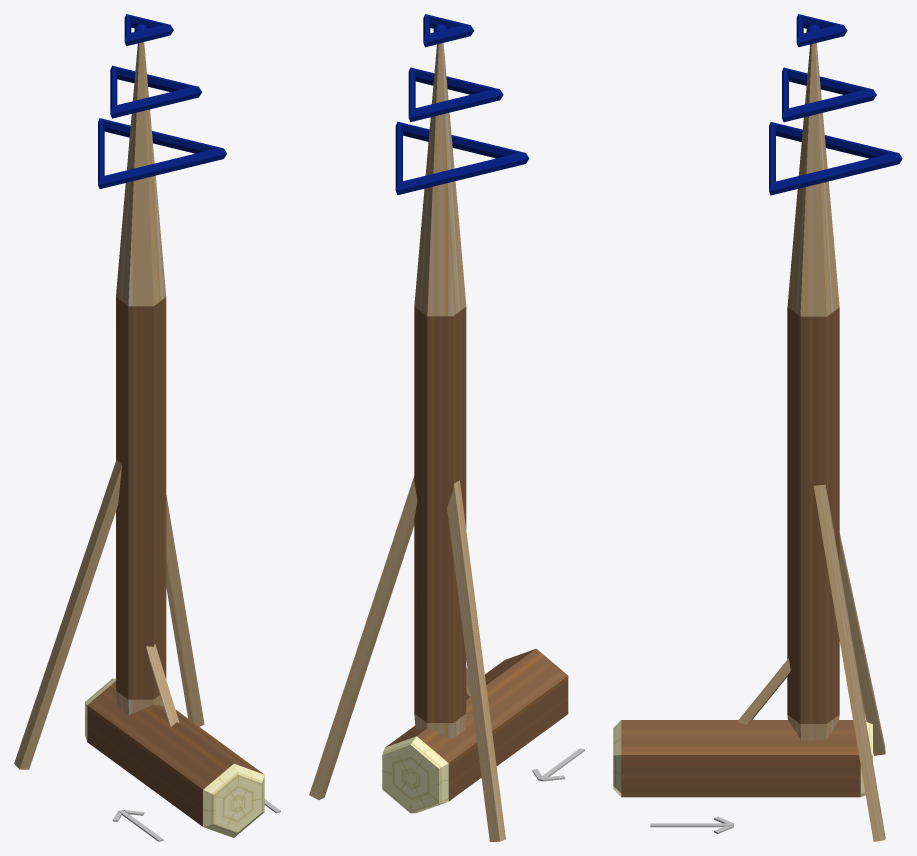
The model's file is TransmitterCrude.obj.
3 views of the same model, side by side, from view 1: azimuth 30°, elevation 25°; view 2: azimuth 150°, elevation 25°; view 3: azimuth 270°, elevation 25° (orthographic). The views are drawn at different scales.
Parts seen in each view (by area): view 1: Cylinder.001_Cylinder.002, Cylinder, Cube, Torus.003_Torus.005, Torus.004, Torus.005_Torus.003, SupportLeg2_Cylinder.001, Cube.001_Cube.008; view 2: Cylinder.001_Cylinder.002, Cylinder, Cube, Torus.003_Torus.005, Torus.004, Torus.005_Torus.003; view 3: Cylinder.001_Cylinder.002, Cylinder, Cube, Torus.003_Torus.005, Torus.004, Torus.005_Torus.003, SupportLeg2_Cylinder.001, Cube.001_Cube.008.
Part boxes in pixels (x1=…): Cylinder.001_Cylinder.002: x1=116, y1=42, x2=166, y2=714; Cylinder: x1=85, y1=678, x2=264, y2=837; Cube: x1=14, y1=460, x2=204, y2=769; Torus.003_Torus.005: x1=98, y1=118, x2=226, y2=188; Torus.004: x1=110, y1=65, x2=201, y2=118; Torus.005_Torus.003: x1=124, y1=14, x2=173, y2=45; SupportLeg2_Cylinder.001: x1=146, y1=644, x2=179, y2=726; Cube.001_Cube.008: x1=112, y1=799, x2=280, y2=841; Cylinder.001_Cylinder.002: x1=414, y1=43, x2=466, y2=738; Cylinder: x1=382, y1=648, x2=568, y2=813; Cube: x1=309, y1=476, x2=505, y2=841; Torus.003_Torus.005: x1=395, y1=121, x2=529, y2=194; Torus.004: x1=408, y1=67, x2=503, y2=121; Torus.005_Torus.003: x1=423, y1=14, x2=474, y2=47; Cylinder.001_Cylinder.002: x1=787, y1=43, x2=839, y2=740; Cylinder: x1=613, y1=720, x2=872, y2=797; Cube: x1=813, y1=484, x2=885, y2=841; Torus.003_Torus.005: x1=769, y1=122, x2=902, y2=195; Torus.004: x1=782, y1=67, x2=876, y2=122; Torus.005_Torus.003: x1=796, y1=14, x2=847, y2=47; SupportLeg2_Cylinder.001: x1=737, y1=658, x2=790, y2=724; Cube.001_Cube.008: x1=650, y1=816, x2=733, y2=833.
Size of the model in its own units: 2.36 by 9.09 by 3.08.
Materials: 5 (3 with a texture image).
